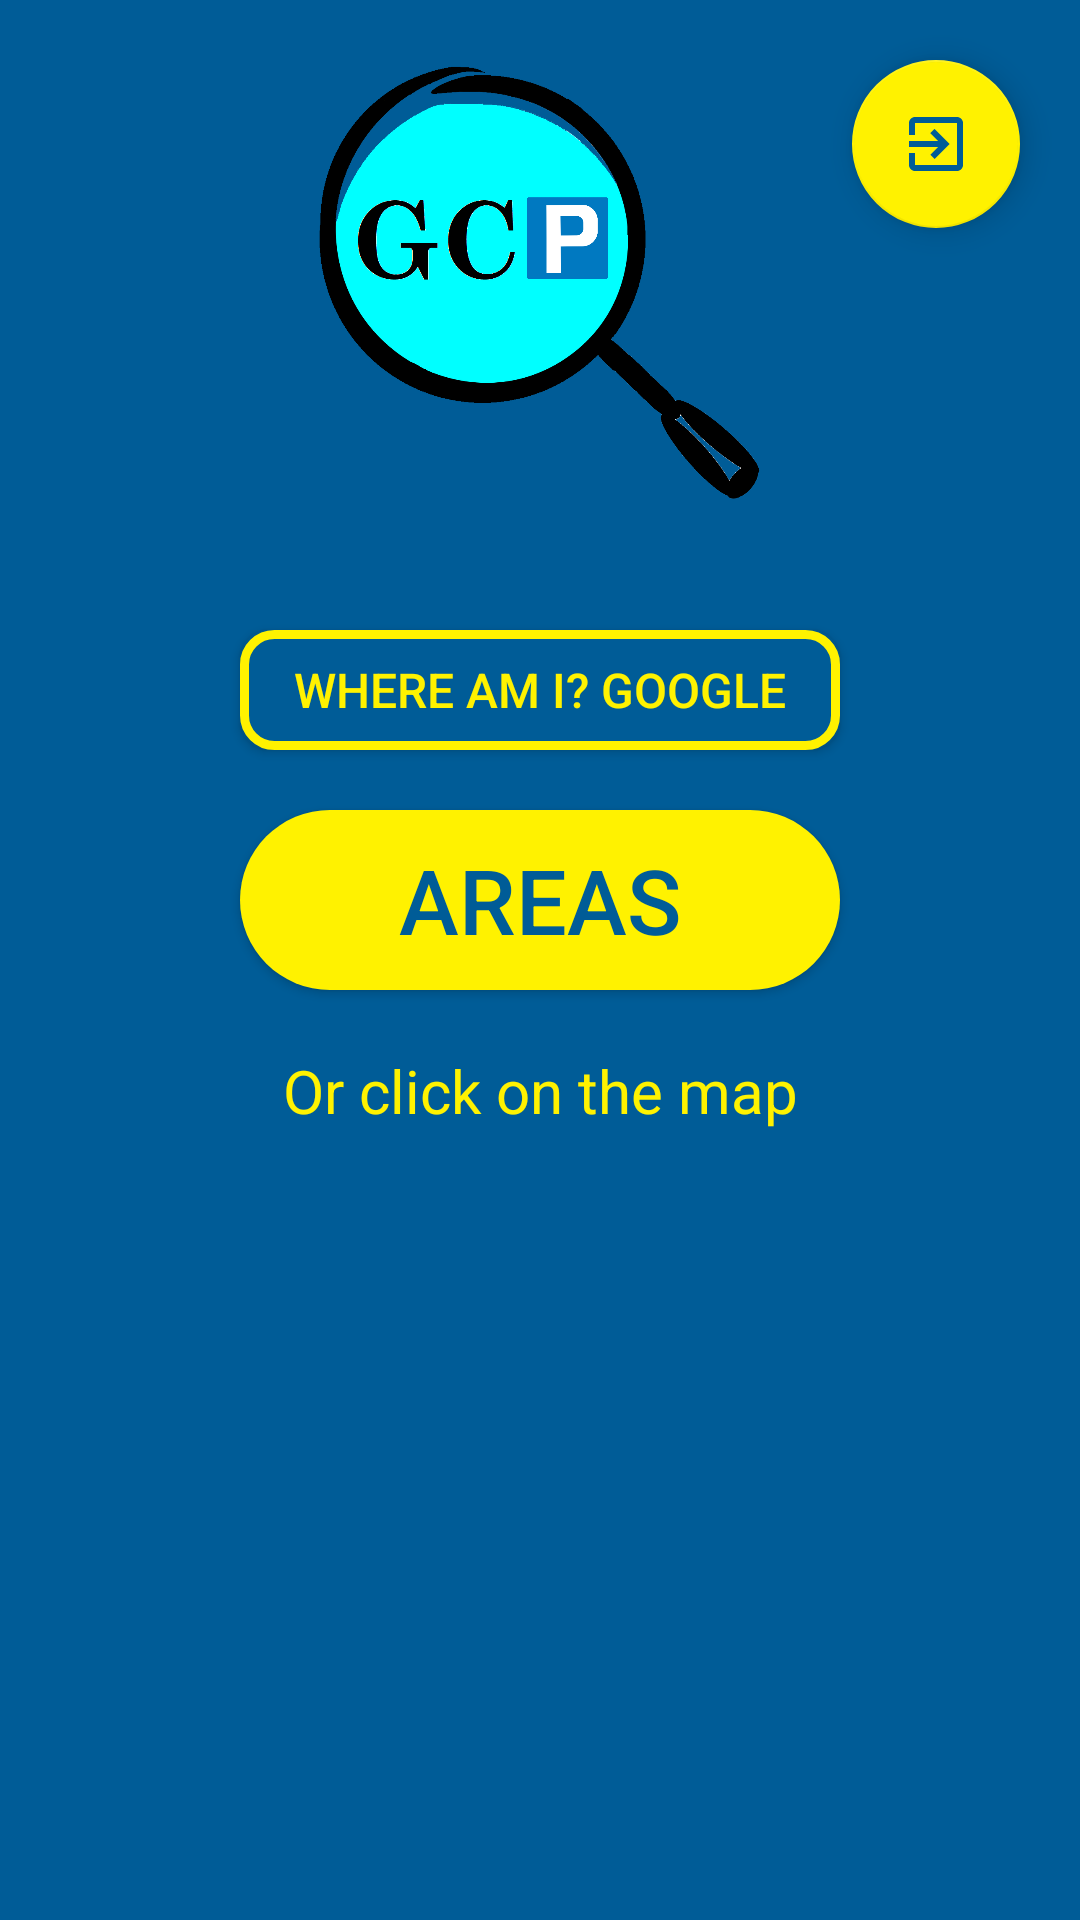

Icons on this 1080px x 1920px Android screen, each with the point to tap as [x,y]:
exit: [936,144]
